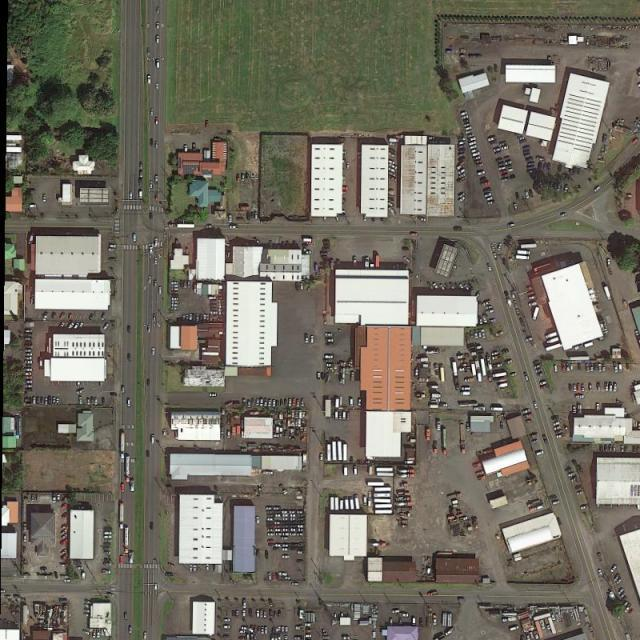vehicle: (118, 503, 125, 530), (460, 424, 466, 454), (124, 528, 130, 556), (442, 429, 448, 456), (603, 286, 613, 302), (121, 434, 126, 463), (126, 456, 131, 483), (394, 502, 414, 508), (532, 306, 540, 321), (448, 493, 462, 501), (440, 365, 446, 382), (471, 362, 478, 376), (371, 542, 386, 548), (515, 255, 530, 261), (517, 250, 531, 256), (60, 538, 70, 546), (494, 372, 507, 378), (542, 434, 549, 445), (464, 285, 472, 294), (534, 450, 544, 457), (62, 502, 70, 510), (487, 139, 496, 146), (477, 170, 486, 177), (388, 163, 397, 170), (471, 151, 480, 158), (155, 58, 161, 68), (507, 222, 517, 228), (524, 372, 530, 382), (427, 592, 437, 598), (399, 470, 414, 474), (399, 474, 414, 478), (398, 492, 410, 497), (593, 187, 601, 194), (427, 282, 434, 290), (439, 284, 446, 292), (518, 318, 525, 326), (60, 524, 68, 531), (61, 528, 69, 535), (60, 548, 68, 555), (397, 498, 411, 502), (387, 202, 395, 209), (486, 136, 495, 142), (482, 187, 491, 193), (539, 380, 548, 386), (483, 300, 492, 306), (482, 314, 488, 323), (473, 330, 479, 339), (494, 332, 503, 338), (529, 433, 538, 439), (531, 439, 540, 445), (555, 430, 564, 436), (534, 369, 544, 374), (528, 302, 538, 307), (574, 485, 584, 490), (404, 255, 411, 262), (67, 322, 74, 329), (457, 162, 464, 169), (449, 283, 456, 290), (459, 284, 466, 291), (525, 418, 532, 425), (85, 599, 92, 606), (61, 512, 68, 519), (610, 566, 617, 573), (614, 575, 621, 582), (618, 588, 625, 595), (294, 282, 300, 290), (74, 322, 80, 330), (43, 194, 49, 202), (497, 162, 505, 168), (498, 166, 506, 172), (523, 190, 529, 198), (433, 282, 439, 290), (389, 175, 397, 181), (418, 216, 426, 222), (444, 282, 450, 290), (534, 364, 542, 370), (525, 336, 533, 342), (481, 330, 487, 338), (548, 495, 556, 501), (82, 629, 90, 635), (418, 358, 430, 362), (634, 330, 640, 338), (152, 347, 157, 356), (486, 263, 491, 272), (513, 301, 518, 310), (58, 322, 64, 329), (103, 325, 110, 331), (78, 323, 84, 330), (493, 147, 500, 153), (560, 212, 567, 218), (632, 138, 638, 145), (461, 114, 468, 120), (474, 155, 481, 161), (475, 291, 481, 298), (510, 372, 517, 378), (505, 358, 512, 364), (268, 599, 274, 606), (616, 578, 622, 585), (353, 256, 358, 264), (299, 282, 304, 290), (246, 211, 251, 219), (43, 313, 48, 321), (148, 75, 152, 85), (149, 180, 154, 188), (138, 190, 143, 198), (486, 197, 494, 202), (513, 203, 518, 211), (484, 193, 492, 198), (481, 181, 489, 186), (468, 137, 476, 142), (469, 145, 477, 150), (470, 149, 478, 154), (570, 478, 578, 483), (576, 491, 584, 496), (487, 310, 495, 315), (488, 319, 496, 324), (478, 316, 483, 324), (478, 330, 483, 338), (522, 409, 530, 414), (580, 505, 588, 510), (92, 630, 96, 640), (149, 522, 154, 530), (52, 494, 57, 502), (66, 579, 74, 584), (433, 615, 437, 625), (598, 570, 603, 578), (551, 415, 559, 420), (608, 445, 613, 453), (241, 173, 245, 182), (240, 206, 249, 210), (230, 225, 239, 229), (464, 122, 470, 128), (389, 152, 395, 158), (389, 170, 395, 176), (492, 254, 498, 260), (586, 362, 590, 371), (614, 363, 618, 372), (168, 563, 174, 569), (354, 467, 358, 476), (510, 627, 519, 631), (624, 608, 630, 614), (596, 382, 600, 391), (578, 405, 582, 414), (621, 593, 627, 599), (91, 398, 96, 405), (77, 390, 84, 395), (51, 312, 56, 319), (89, 313, 94, 320), (154, 117, 159, 124), (129, 191, 134, 198), (28, 203, 35, 208), (499, 142, 506, 147), (514, 192, 519, 199), (460, 110, 467, 115), (388, 159, 395, 164), (389, 167, 396, 172), (458, 193, 465, 198), (537, 373, 544, 378), (567, 473, 574, 478), (552, 501, 559, 506), (62, 533, 69, 538), (119, 556, 124, 563), (629, 610, 634, 617), (625, 363, 630, 370), (519, 139, 526, 144), (210, 314, 214, 322), (214, 314, 218, 322), (305, 334, 309, 342), (325, 333, 333, 337), (127, 326, 131, 334), (128, 354, 132, 362), (250, 211, 254, 219), (95, 398, 99, 406), (45, 398, 49, 406), (243, 399, 247, 407), (151, 435, 155, 443), (146, 450, 150, 458), (148, 275, 152, 283), (205, 120, 209, 128), (154, 238, 158, 246), (149, 246, 153, 254), (153, 256, 157, 264), (156, 22, 160, 30), (453, 226, 461, 230), (458, 142, 466, 146), (466, 134, 474, 138), (469, 142, 477, 146), (498, 243, 502, 251), (491, 244, 495, 252), (562, 364, 566, 372), (566, 363, 570, 371), (570, 364, 574, 372), (590, 363, 594, 371), (594, 362, 598, 370), (618, 363, 622, 371), (486, 306, 494, 310), (419, 618, 423, 626), (96, 630, 100, 638), (255, 517, 259, 525), (269, 573, 273, 581), (282, 510, 290, 514), (57, 494, 61, 502), (23, 546, 27, 554), (102, 570, 110, 574), (129, 626, 133, 634), (256, 610, 260, 618), (320, 454, 324, 462), (222, 626, 230, 630), (242, 610, 246, 618), (589, 383, 593, 391), (412, 618, 416, 626), (614, 382, 618, 390), (575, 394, 583, 398), (573, 406, 577, 414), (557, 183, 561, 191), (237, 217, 243, 222), (60, 313, 65, 319), (496, 158, 502, 163), (84, 613, 90, 618), (292, 582, 298, 587), (84, 604, 90, 609), (24, 523, 27, 533), (187, 281, 191, 288), (326, 355, 333, 359), (350, 398, 354, 405), (154, 279, 158, 286), (254, 212, 258, 219), (110, 392, 117, 396), (25, 330, 32, 334), (284, 398, 288, 405), (102, 313, 106, 320), (146, 48, 150, 55), (150, 108, 154, 115), (150, 139, 154, 146), (192, 143, 196, 150), (139, 170, 143, 177), (139, 180, 143, 187), (27, 189, 34, 193), (156, 37, 160, 44), (156, 7, 160, 14), (501, 146, 508, 150), (502, 178, 509, 182), (503, 156, 510, 160), (410, 231, 417, 235), (346, 162, 350, 169), (458, 198, 465, 202), (554, 365, 558, 372), (598, 364, 602, 371), (492, 351, 499, 355), (534, 402, 538, 409), (401, 614, 408, 618), (256, 550, 260, 557), (265, 551, 269, 558), (266, 506, 273, 510), (267, 514, 274, 518), (274, 514, 281, 518), (290, 514, 297, 518), (23, 535, 27, 542), (282, 514, 289, 518), (392, 610, 399, 614), (242, 626, 249, 630), (267, 540, 274, 544), (282, 543, 289, 547), (154, 583, 158, 590), (223, 618, 230, 622), (390, 619, 394, 626), (553, 422, 560, 426), (554, 426, 561, 430), (599, 446, 603, 453), (564, 185, 568, 192), (536, 157, 543, 161), (206, 313, 209, 322), (246, 173, 249, 182), (163, 429, 166, 438), (607, 258, 610, 267), (342, 637, 351, 640), (210, 299, 216, 303), (210, 311, 218, 314), (182, 314, 185, 322), (199, 314, 202, 322), (311, 335, 314, 343), (326, 342, 332, 346), (159, 286, 162, 294), (229, 214, 232, 222), (206, 226, 214, 229), (80, 398, 83, 406), (41, 397, 44, 405), (33, 397, 36, 405), (26, 345, 32, 349), (147, 379, 150, 387), (127, 399, 130, 407), (68, 314, 72, 320), (108, 258, 116, 261), (110, 249, 118, 252), (110, 244, 118, 247), (138, 162, 142, 168), (150, 211, 153, 219), (133, 234, 136, 242), (24, 381, 32, 384), (506, 161, 512, 165), (458, 170, 464, 174), (466, 127, 472, 131), (206, 565, 209, 573), (227, 430, 230, 438), (278, 573, 286, 576), (104, 562, 110, 566), (144, 632, 147, 640), (166, 574, 174, 577), (264, 610, 267, 618), (274, 610, 277, 618), (278, 610, 281, 618), (246, 634, 250, 640), (296, 626, 302, 630), (295, 636, 301, 640), (236, 610, 239, 618), (573, 384, 576, 392), (581, 383, 584, 391), (597, 403, 600, 411), (605, 445, 608, 453), (624, 446, 627, 454), (637, 445, 640, 453), (189, 313, 192, 320), (196, 314, 199, 321), (326, 339, 333, 342), (359, 398, 362, 405), (171, 307, 178, 310), (153, 315, 156, 322), (148, 325, 151, 332), (297, 399, 300, 406), (102, 398, 105, 405), (87, 398, 90, 405), (57, 398, 60, 405), (37, 397, 40, 404), (26, 337, 33, 340), (25, 376, 32, 379), (289, 398, 292, 405), (280, 399, 283, 406), (268, 399, 271, 406), (261, 399, 264, 406), (252, 399, 255, 406), (248, 400, 251, 407), (210, 394, 217, 397), (122, 387, 125, 394), (155, 176, 158, 183), (31, 493, 34, 500), (578, 363, 581, 370), (602, 364, 605, 371), (569, 383, 572, 390), (190, 565, 193, 572), (289, 510, 296, 513), (104, 532, 111, 535), (104, 535, 111, 538), (103, 547, 110, 550), (270, 610, 273, 617), (304, 635, 311, 638), (274, 529, 281, 532), (274, 544, 281, 547), (297, 551, 304, 554), (318, 372, 321, 379), (243, 601, 246, 608), (577, 383, 580, 390), (613, 445, 616, 452), (621, 445, 624, 452), (633, 445, 636, 452), (298, 510, 303, 514), (203, 315, 206, 321), (25, 386, 31, 389), (180, 281, 183, 287), (172, 291, 178, 294), (172, 294, 178, 297), (302, 400, 305, 406), (26, 350, 32, 353), (26, 354, 32, 357), (25, 358, 31, 361), (276, 400, 279, 406), (273, 400, 276, 406), (155, 194, 158, 200), (35, 494, 38, 500), (101, 630, 104, 636), (274, 507, 280, 510), (284, 577, 290, 580), (104, 551, 110, 554), (298, 514, 304, 517), (261, 628, 264, 634), (249, 610, 252, 616), (283, 529, 289, 532), (290, 529, 296, 532), (282, 537, 288, 540), (237, 174, 239, 182), (293, 398, 295, 406), (185, 145, 187, 153), (282, 557, 290, 559), (125, 613, 127, 621), (238, 637, 246, 639), (251, 626, 253, 634), (254, 626, 256, 634), (605, 382, 607, 390), (105, 539, 110, 542), (254, 635, 257, 640), (298, 525, 303, 528), (637, 118, 640, 123), (171, 304, 178, 306), (171, 282, 178, 284), (171, 298, 178, 300), (171, 302, 178, 304), (49, 397, 51, 404), (25, 362, 32, 364), (25, 373, 32, 375), (264, 399, 266, 406), (194, 565, 196, 572), (258, 626, 260, 633), (260, 610, 262, 617), (610, 383, 612, 390), (518, 137, 525, 139), (209, 297, 215, 299), (186, 314, 188, 320), (193, 314, 195, 320), (184, 281, 186, 287), (172, 288, 178, 290), (53, 398, 55, 404), (257, 399, 259, 405), (156, 84, 158, 90), (156, 142, 158, 148), (274, 636, 277, 640), (268, 529, 274, 531), (268, 534, 274, 536), (276, 534, 282, 536), (291, 533, 297, 535), (26, 369, 31, 371), (298, 561, 303, 563), (298, 534, 303, 536), (271, 636, 273, 640), (278, 636, 280, 640), (285, 636, 287, 640), (171, 286, 178, 287), (282, 549, 289, 550), (25, 366, 30, 367), (266, 629, 267, 634), (285, 534, 290, 535), (298, 530, 302, 531), (521, 638, 523, 640)
